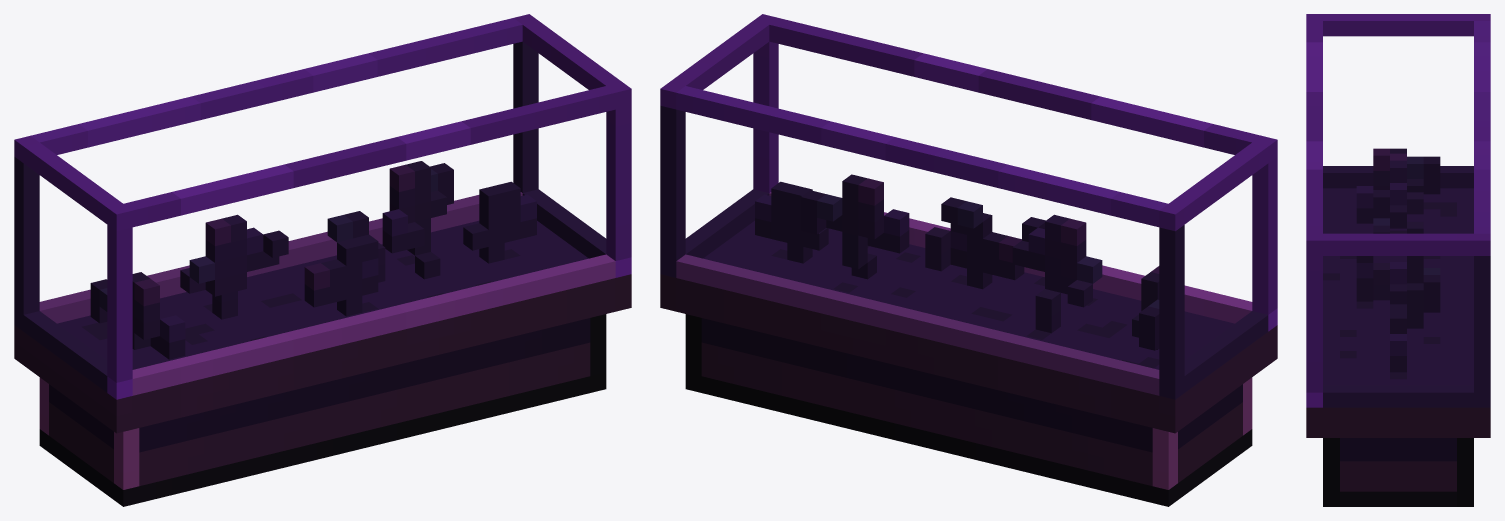
Rendered from Greenhouse.obj.
3 views of the same model, side by side, from view 1: azimuth 30°, elevation 25°; view 2: azimuth 150°, elevation 25°; view 3: azimuth 270°, elevation 25° (orthographic). The views are drawn at different scales.
Bounding box in the file's own units: 3.2 × 1.8 × 1.1.
Materials: 1 (1 with a texture image).
